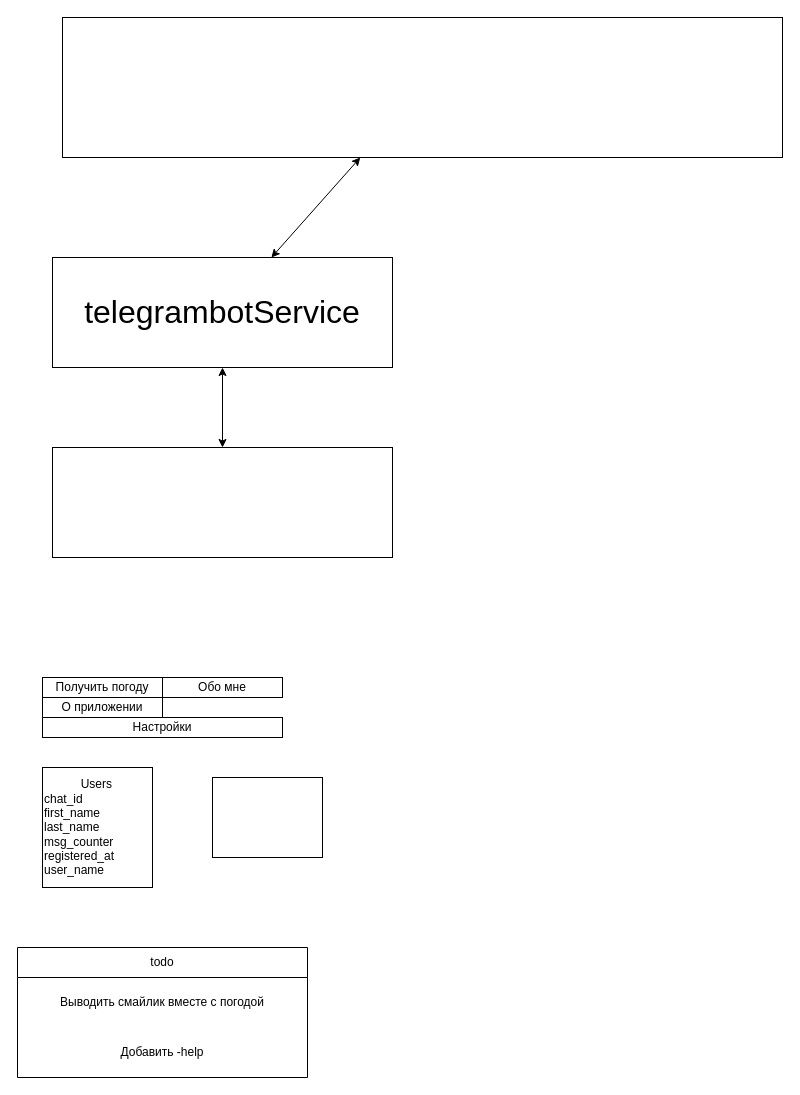
This 800x1095 diagram has some shape labels left out. Each missing label, with the centre of its shape:
Requsts chat_id city requestTime: point 267,817
Telegram: point 422,87
weatherService: point 222,502
